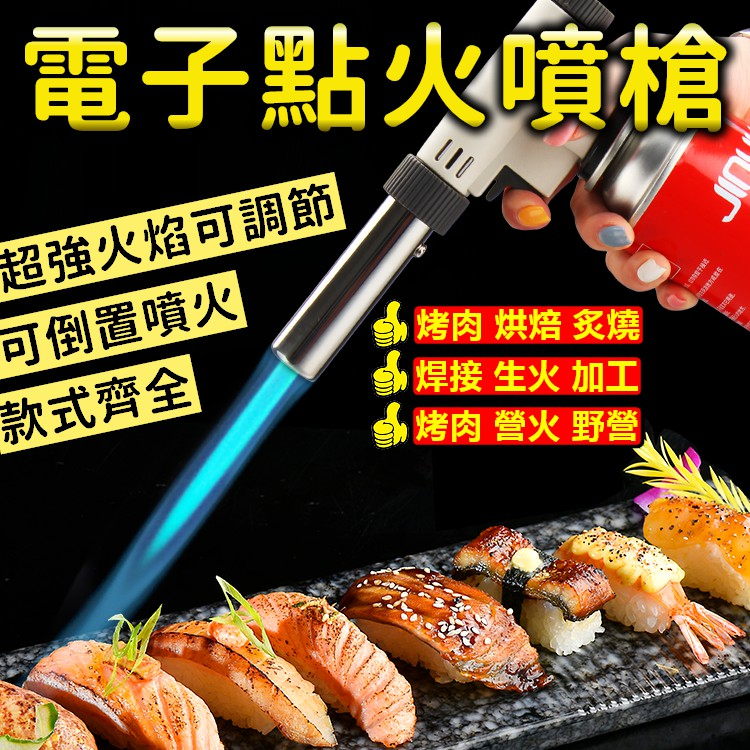gastorch: (232, 3, 750, 442)
